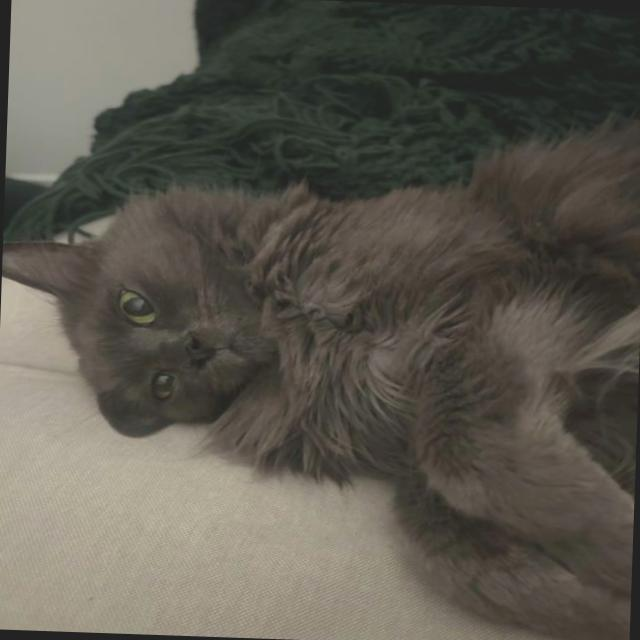russian_blue_cat: (0, 158, 369, 466)
